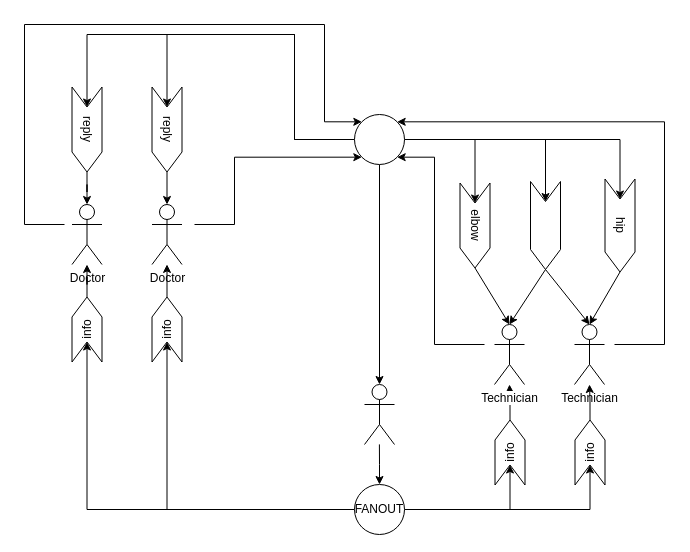
This 690x552 diagram has some shape labels left out. The box of each missing label's shape, as (x1, y1, x2, y2) in pixels:
Admin: (364, 384, 394, 444)
knee: (530, 180, 560, 270)
TOPIC: (354, 114, 404, 164)
